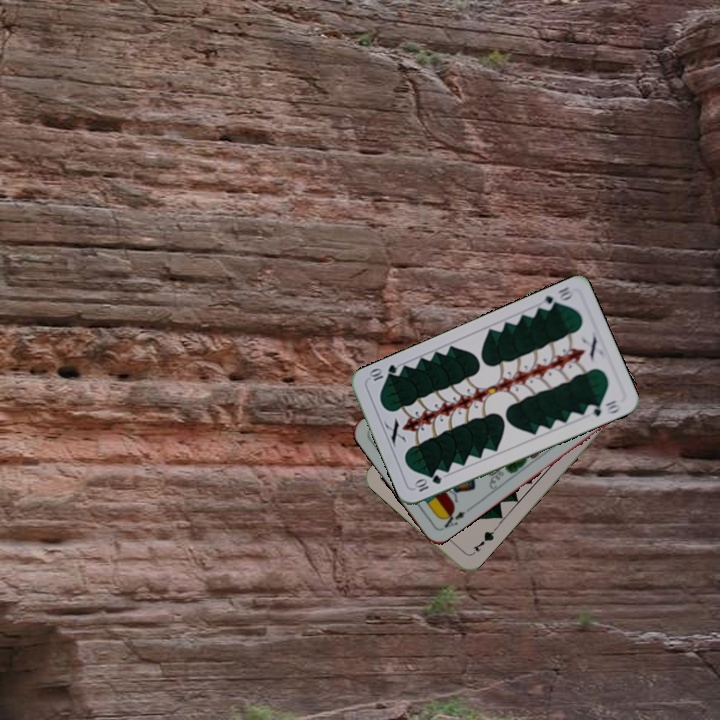EA: (438, 505, 468, 531)
G10: (536, 283, 576, 313), (410, 471, 444, 494)
G7: (469, 525, 498, 554)
